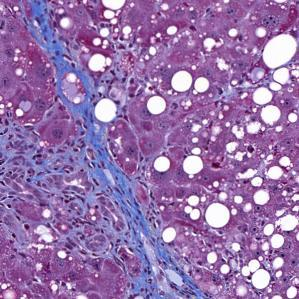fibrosis: (14, 138, 156, 257), (37, 19, 123, 130)
